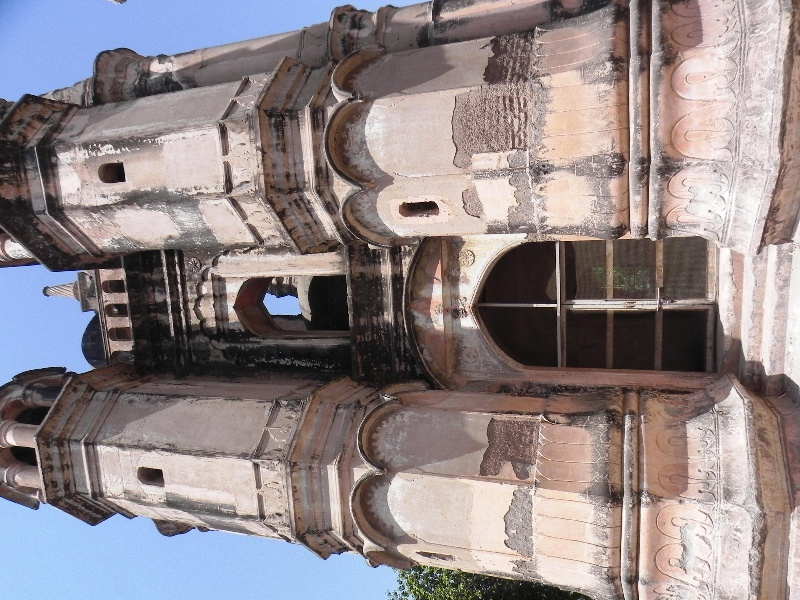Exposed Bricks: (496, 33, 532, 149)
Spalling: (474, 415, 545, 581), (444, 83, 483, 170), (502, 155, 542, 233), (457, 182, 485, 218)
